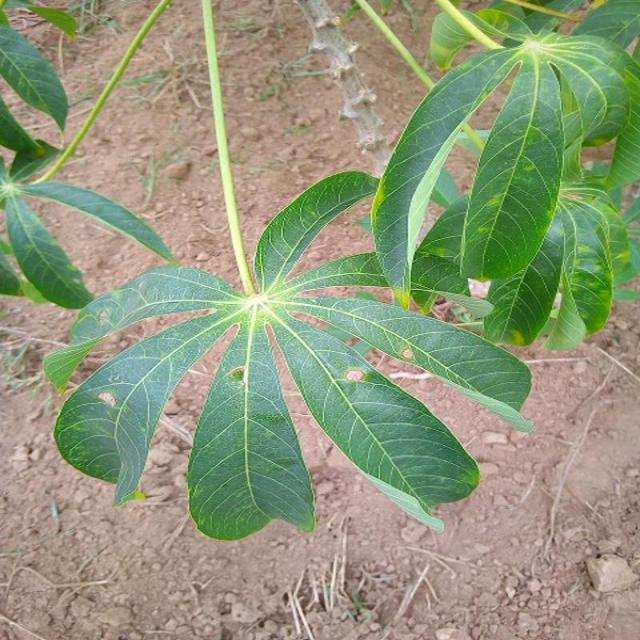cassava leaf: (32, 2, 637, 542), (186, 309, 316, 541), (458, 47, 565, 282)
